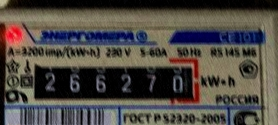0: (167, 72, 181, 92)
2: (40, 70, 53, 91), (117, 72, 130, 92)
6: (65, 71, 77, 92), (91, 72, 104, 91)
7: (143, 72, 153, 91)
screen: (19, 53, 202, 108)
